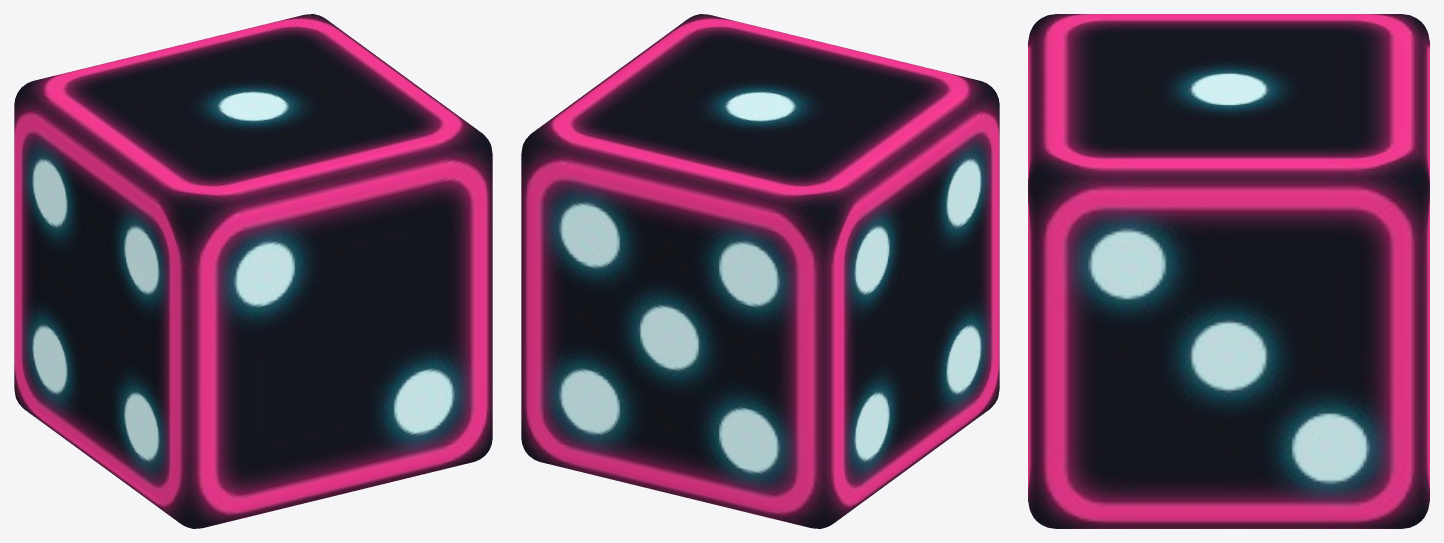
The model's file is bonus_die.glb.
3 views of the same model, side by side, from view 1: azimuth 30°, elevation 25°; view 2: azimuth 150°, elevation 25°; view 3: azimuth 270°, elevation 25° (orthographic). The views are drawn at different scales.
Visible parts, largest first — view 1: Die; view 2: Die; view 3: Die.
Part boxes in pixels (bbox=[...]): Die: bbox=[14, 14, 492, 528]; Die: bbox=[521, 14, 999, 528]; Die: bbox=[1028, 14, 1429, 528].
Bounding box in the file's own units: 0.04 × 0.04 × 0.04.
6 materials, 6 textured.
